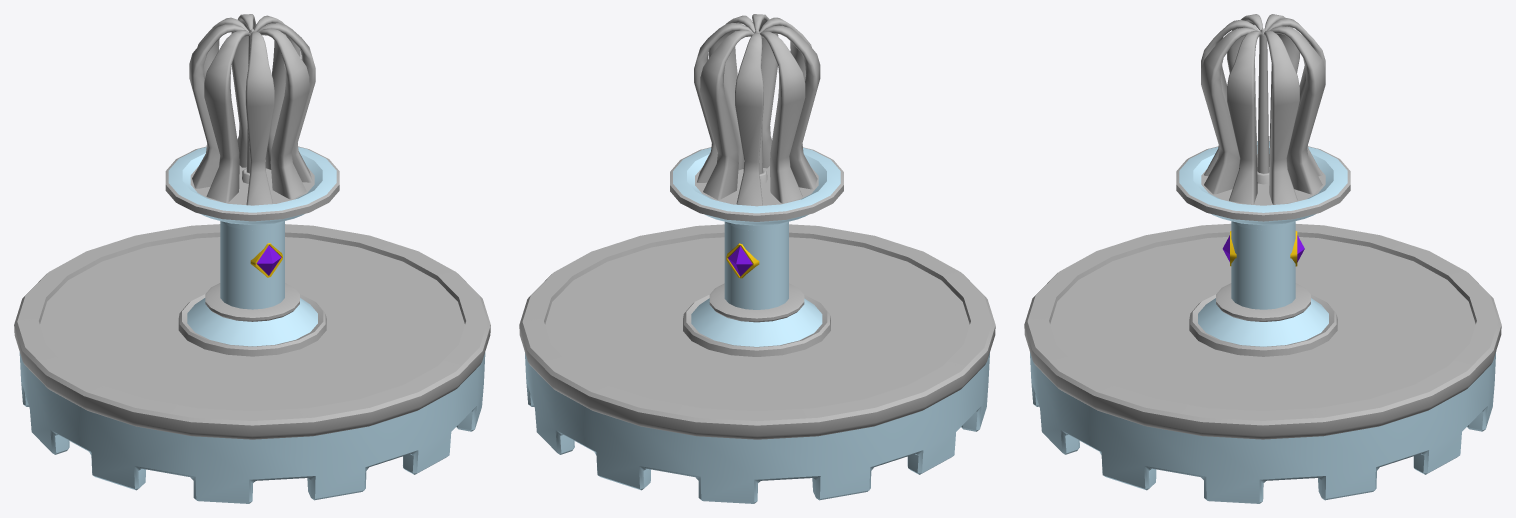
The model's file is Fountain.fbx.
The picture shows the model from 3 angles, left to right: view 1: azimuth 30°, elevation 25°; view 2: azimuth 150°, elevation 25°; view 3: azimuth 270°, elevation 25°; orthographic projection.
Parts seen in each view (by area): view 1: FountainParty_LOD0; view 2: FountainParty_LOD0; view 3: FountainParty_LOD0.
Part boxes in pixels (box(x1,y1,x2,y2)): FountainParty_LOD0: box(14, 14, 490, 503); FountainParty_LOD0: box(519, 14, 995, 503); FountainParty_LOD0: box(1024, 14, 1501, 503).
Size of what is drawn, in the model's own units: 605 by 536 by 605.
